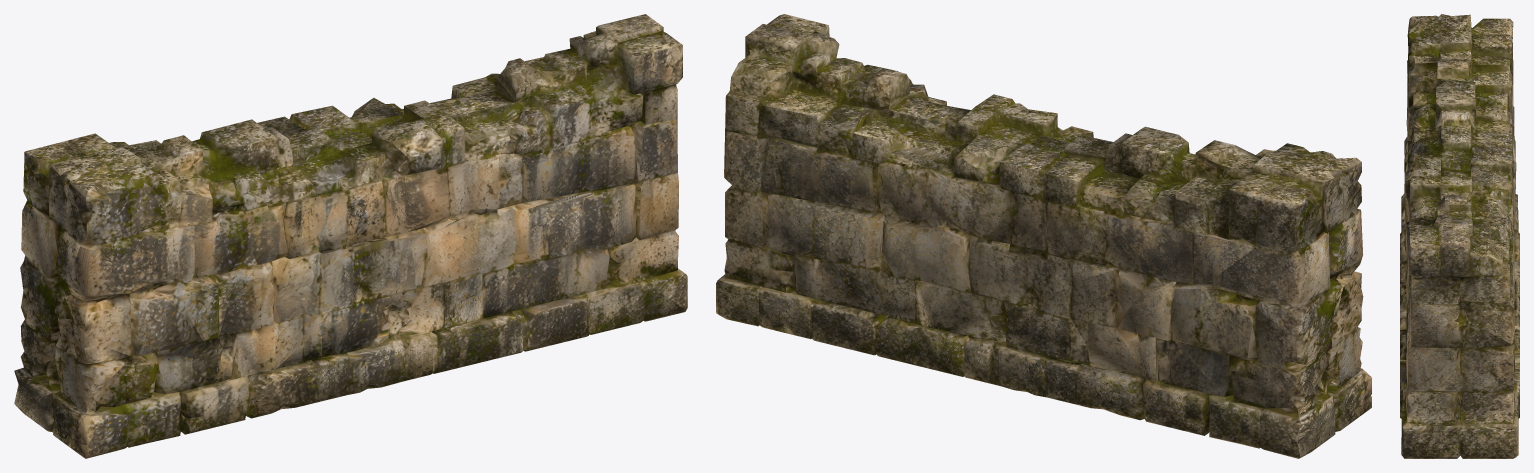
Rendered from ARQ_MuroMaya_01_LOD1.fbx.
3 renders of one model, left to right at view 1: azimuth 30°, elevation 25°; view 2: azimuth 150°, elevation 25°; view 3: azimuth 270°, elevation 25°, orthographic. The views are drawn at different scales.
Visible parts, largest first — view 1: ARQ_MuroMaya_01_Mesh000; view 2: ARQ_MuroMaya_01_Mesh000; view 3: ARQ_MuroMaya_01_Mesh000.
Boxes of the visible parts, <box> form: ARQ_MuroMaya_01_Mesh000: <box>14,14,687,458</box>; ARQ_MuroMaya_01_Mesh000: <box>716,14,1371,458</box>; ARQ_MuroMaya_01_Mesh000: <box>1400,14,1519,458</box>.
Size of the model in its own units: 4 by 1.7 by 0.8532.
